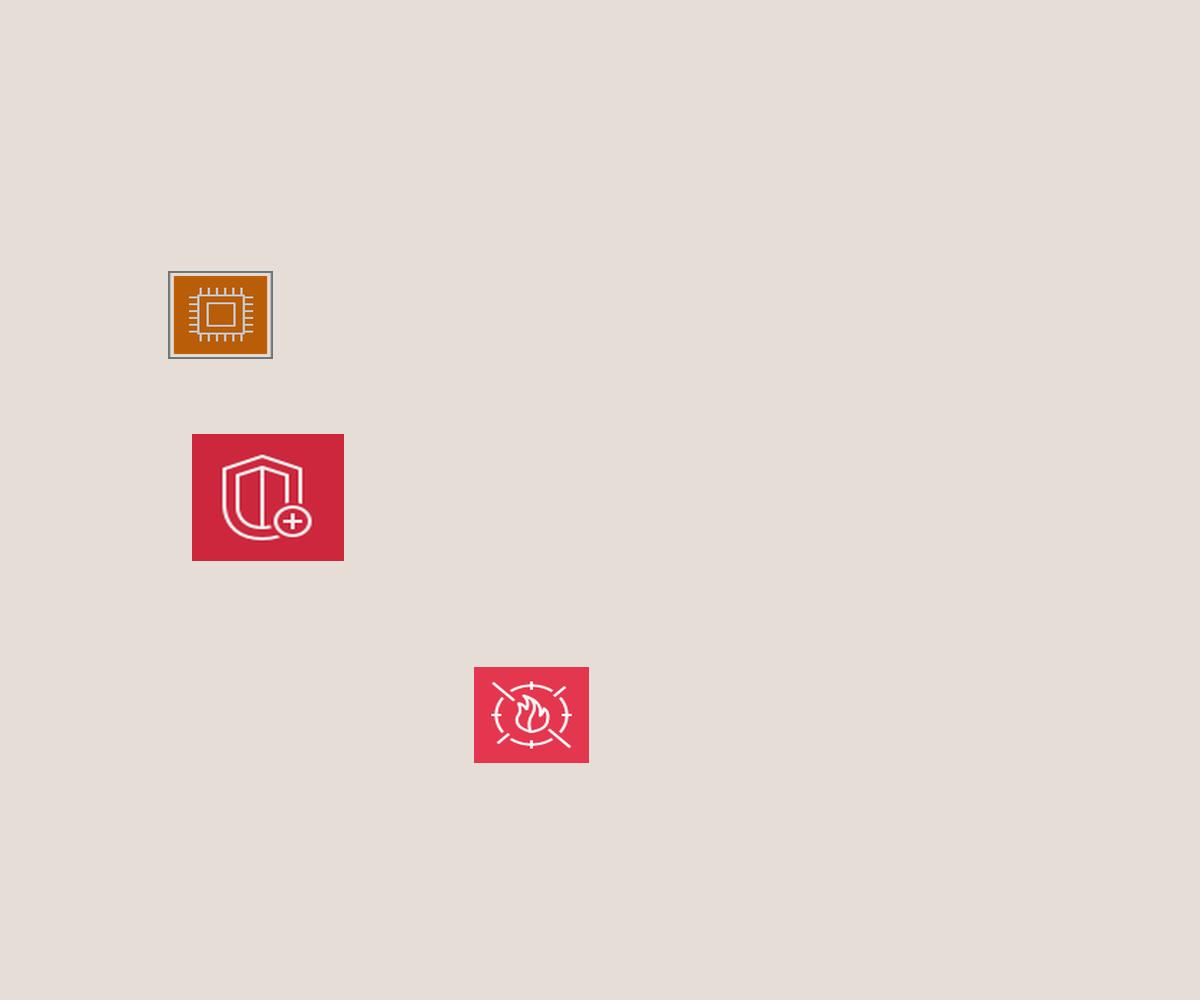AWS-Category_Compute: (168, 271, 273, 359)
AWS-Shield: (192, 434, 344, 561)
AWS-WAF: (474, 667, 589, 763)
